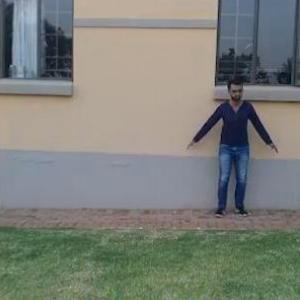land: (175, 73, 272, 235)
